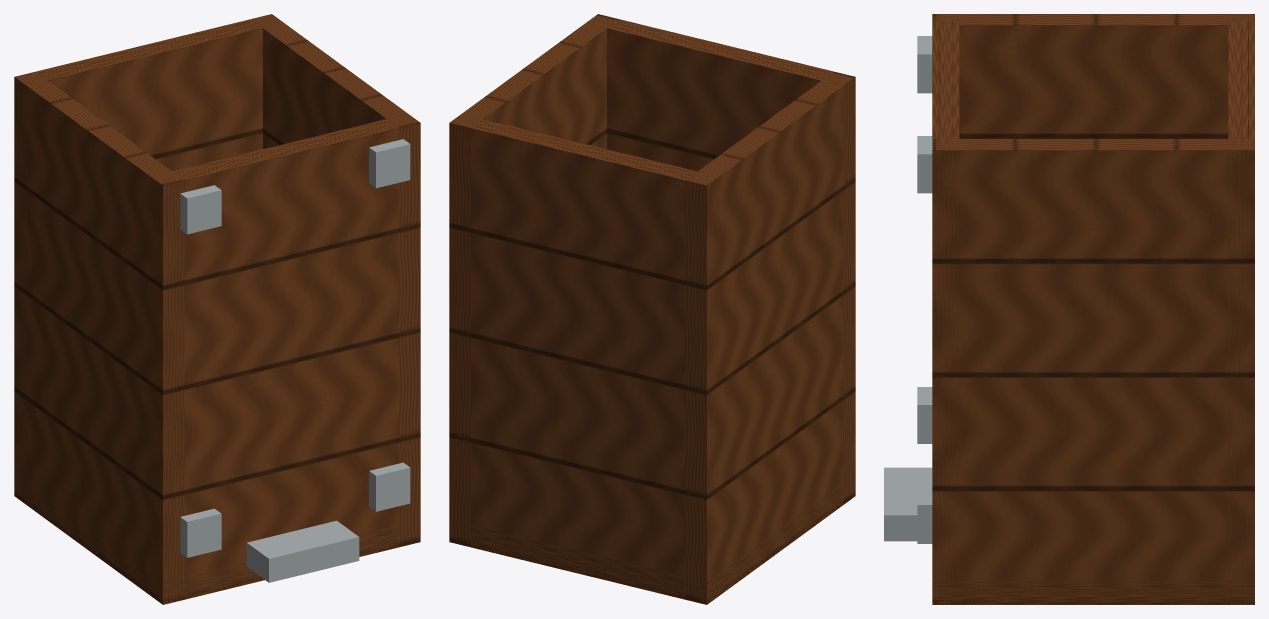
File: bin.glb
3 renders of one model, left to right at view 1: azimuth 30°, elevation 25°; view 2: azimuth 150°, elevation 25°; view 3: azimuth 270°, elevation 25°, orthographic. The views are drawn at different scales.
Visible parts, largest first — view 1: waste-bin-foot-pedal, bin-pedal/metal; view 2: waste-bin-foot-pedal; view 3: waste-bin-foot-pedal, bin-pedal/metal.
Boxes of the visible parts, x1,y1,x2,y2 form: waste-bin-foot-pedal: (14,14,420,604); bin-pedal/metal: (246,520,359,582); waste-bin-foot-pedal: (449,14,855,604); waste-bin-foot-pedal: (917,14,1254,604); bin-pedal/metal: (884,467,932,541).
Bounding box in the file's own units: 0.45 × 0.7 × 0.5175.
2 materials, 1 textured.
